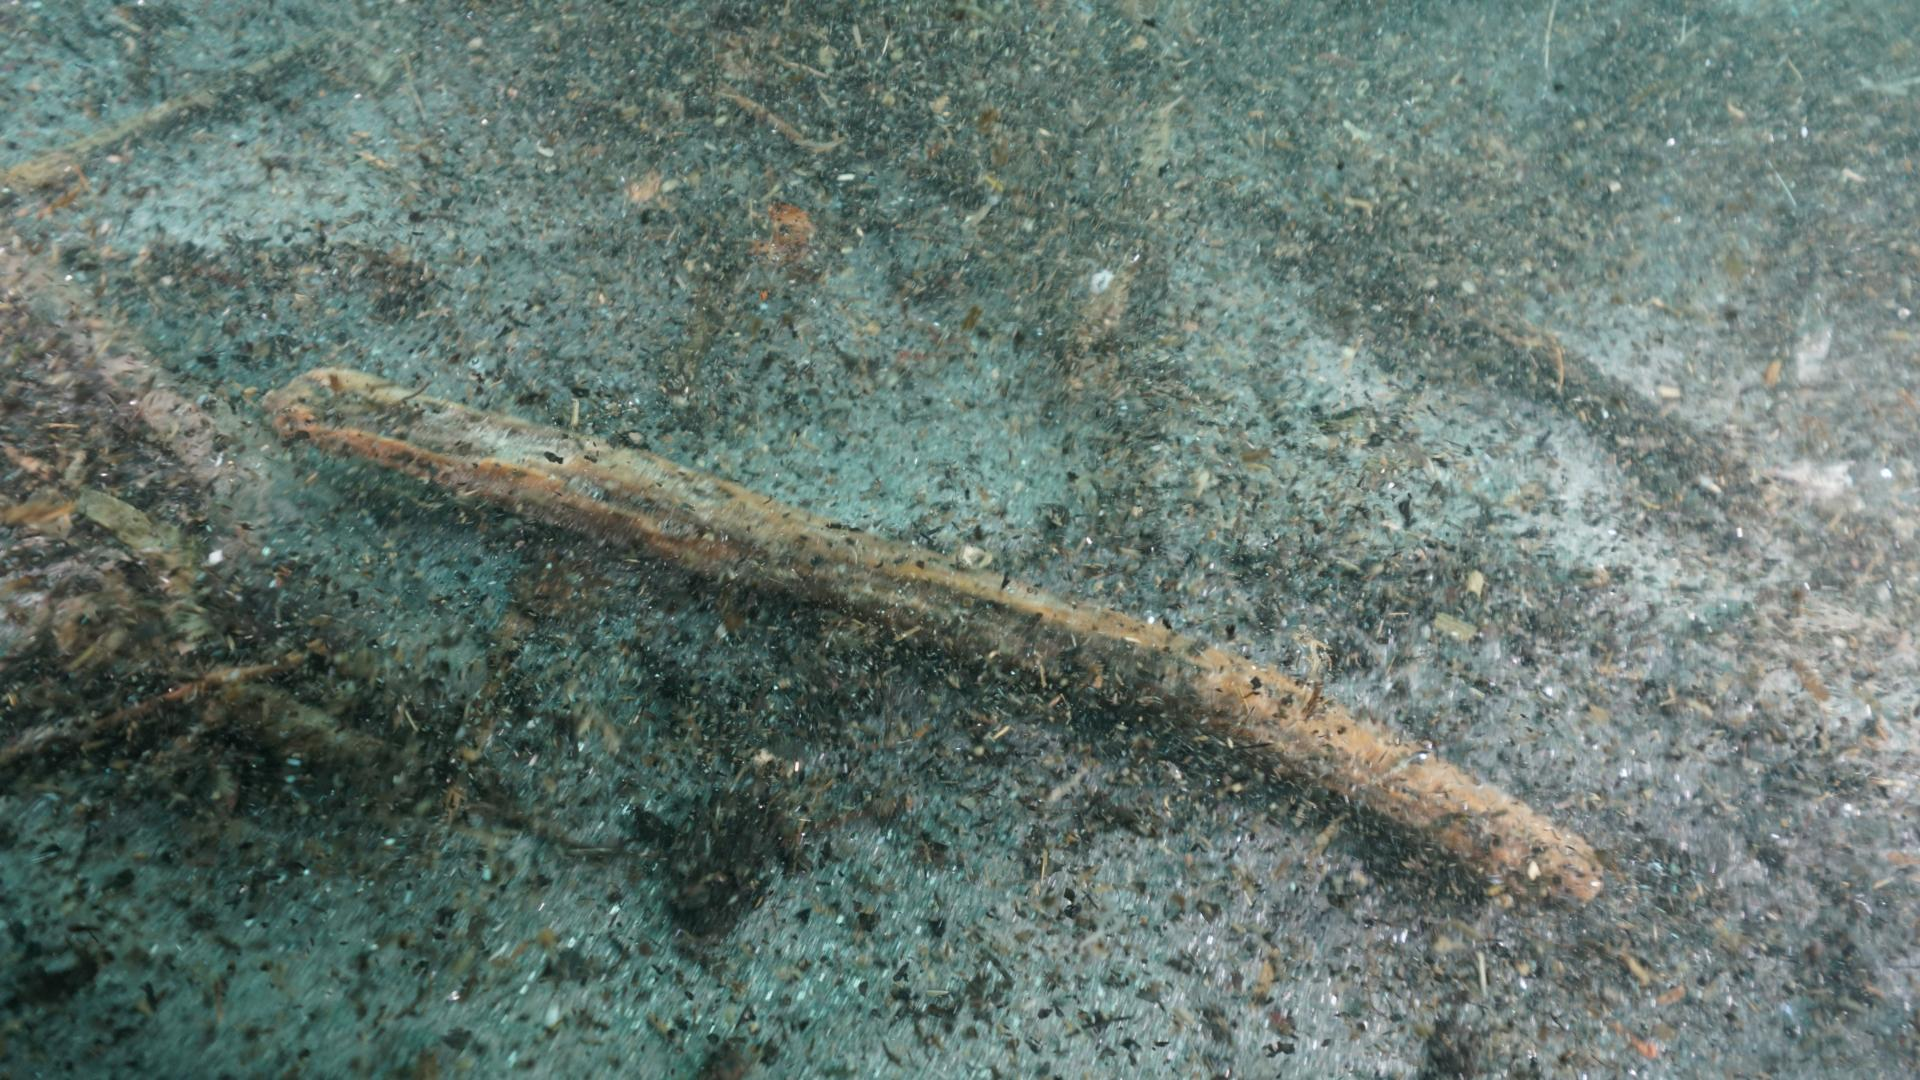wood: (260, 365, 1604, 915)
